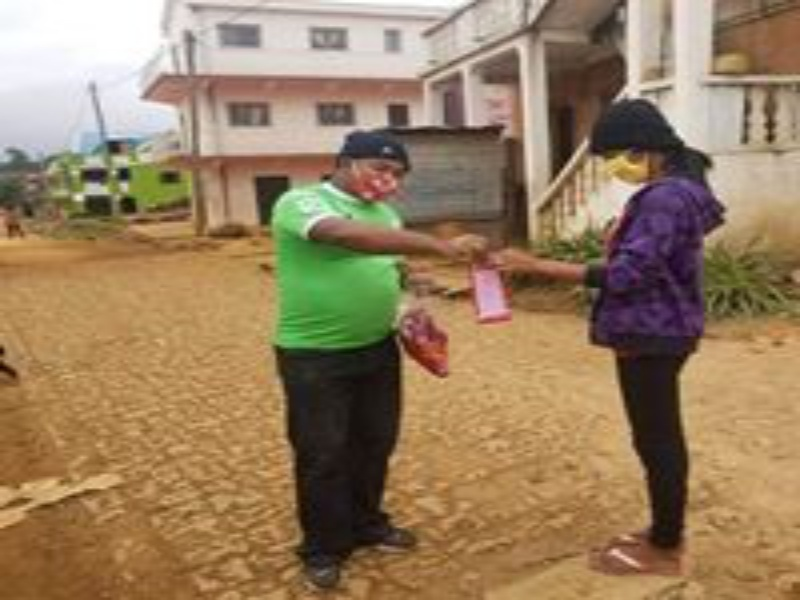ManaoArotava: (330, 123, 416, 217), (587, 102, 673, 194)
